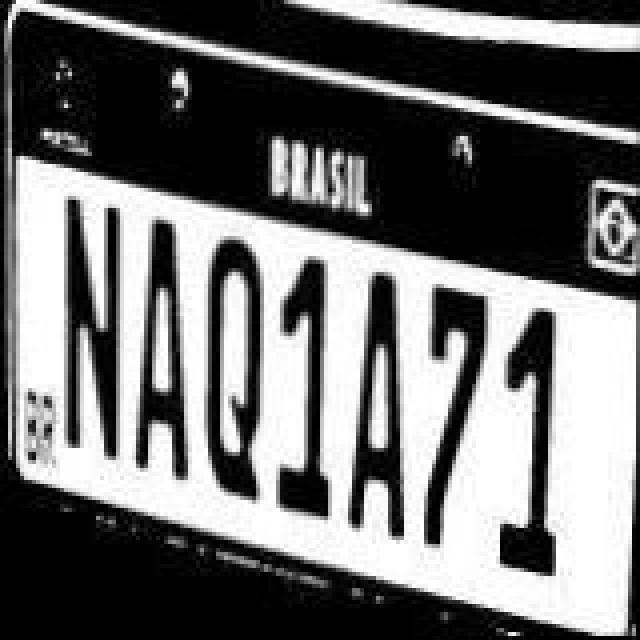1: (502, 300, 566, 596), (272, 260, 332, 536)
7: (424, 276, 492, 568)
A: (132, 216, 200, 504), (350, 272, 414, 564)
N: (56, 202, 124, 494)
Q: (204, 230, 264, 510)
